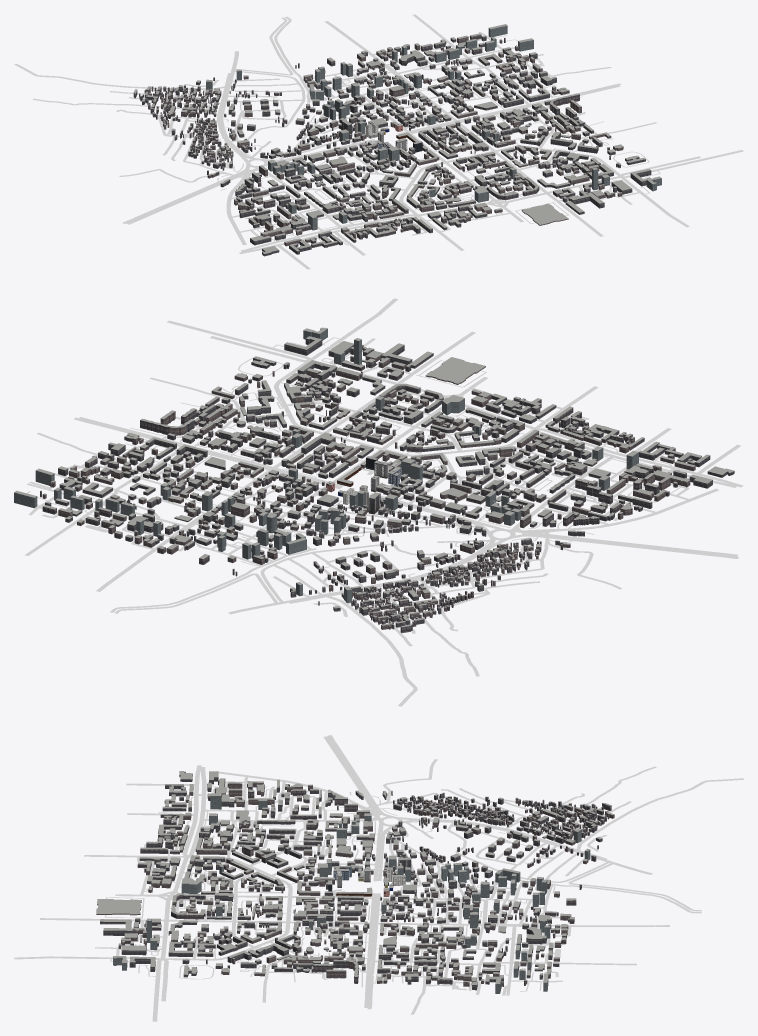
File: city.glb
3 views of the same model, one above another, from view 1: azimuth 30°, elevation 25°; view 2: azimuth 150°, elevation 25°; view 3: azimuth 270°, elevation 25° (orthographic). The views are drawn at different scales.
Visible parts, largest first — view 1: Film OSM Buildings, Film OSM Streets, Film OSM Detail; view 2: Film OSM Buildings, Film OSM Streets, Film OSM Detail; view 3: Film OSM Buildings, Film OSM Streets, Film OSM Detail.
Part boxes in pixels (x1,y1,x2,y2): Film OSM Buildings: (133,24,661,256); Film OSM Streets: (14,14,743,269); Film OSM Detail: (356,120,432,156); Film OSM Buildings: (14,327,734,632); Film OSM Streets: (25,298,743,706); Film OSM Detail: (322,456,413,503); Film OSM Buildings: (96,771,614,993); Film OSM Streets: (14,735,743,1021); Film OSM Detail: (314,864,405,897).
Bounding box in the file's own units: 2495 × 90 × 2684.
24 materials, 16 textured.
